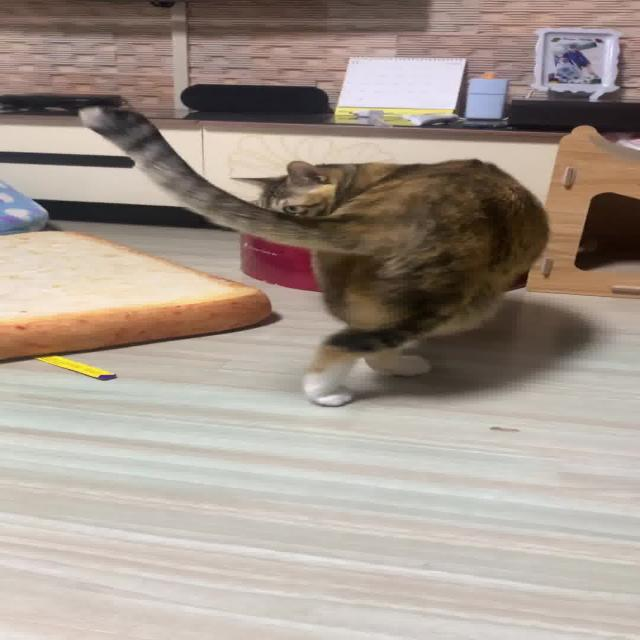cat: (47, 99, 558, 431)
